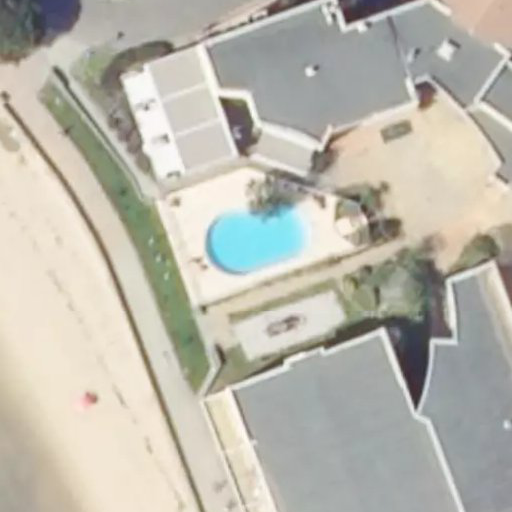pool: (197, 215, 315, 268)
